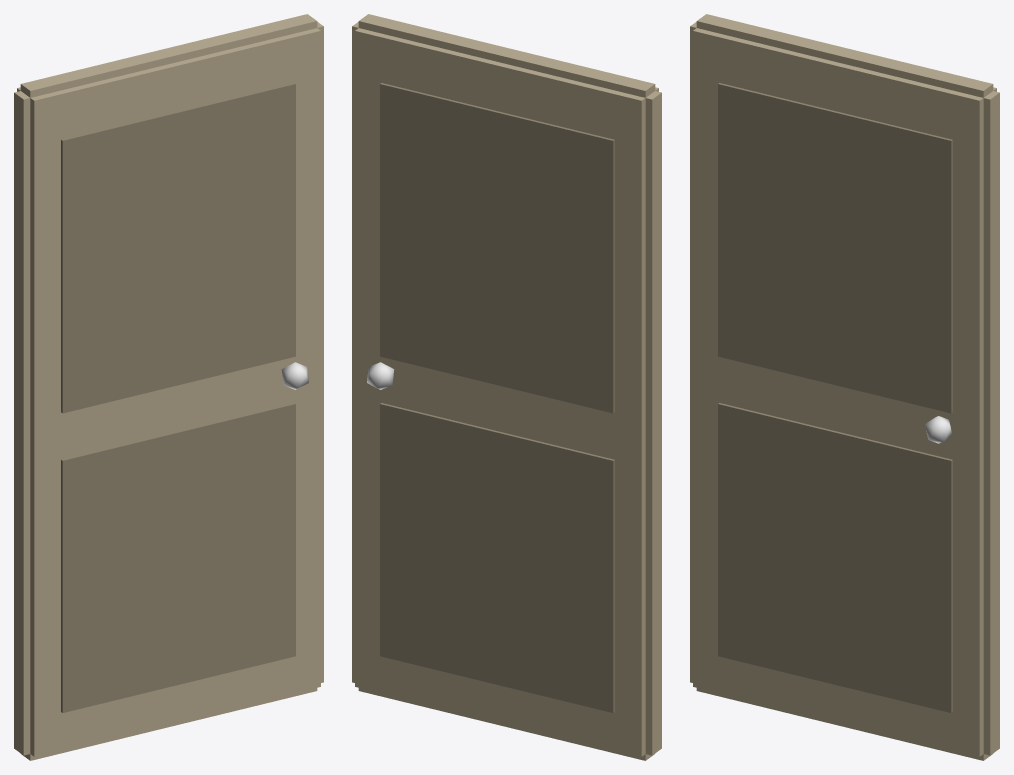
File: boreal_door_v0.glb
The picture shows the model from 3 angles, left to right: view 1: azimuth 30°, elevation 25°; view 2: azimuth 150°, elevation 25°; view 3: azimuth 330°, elevation 25°; orthographic projection.
Visible parts, largest first — view 1: boreal_door_v0; view 2: boreal_door_v0; view 3: boreal_door_v0.
Boxes of the visible parts, box(x1,y1,x2,y2) form: boreal_door_v0: box(14, 14, 323, 760); boreal_door_v0: box(352, 14, 661, 760); boreal_door_v0: box(690, 14, 999, 760).
Size of the model in its own units: 0.9 by 1.92 by 0.2381.
